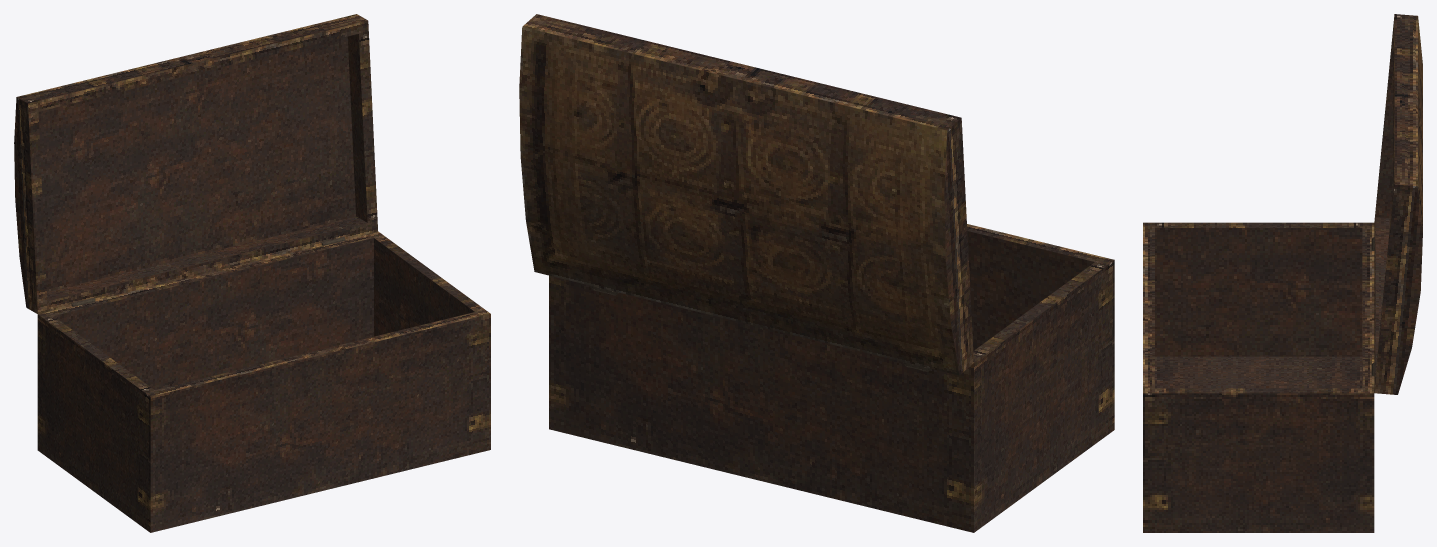
The model's file is wooden_crate_3.glb.
3 views of the same model, side by side, from view 1: azimuth 30°, elevation 25°; view 2: azimuth 150°, elevation 25°; view 3: azimuth 270°, elevation 25° (orthographic). The views are drawn at different scales.
Parts seen in each view (by area): view 1: wooden_crate_3, wooden_crate_3_lid; view 2: wooden_crate_3_lid, wooden_crate_3; view 3: wooden_crate_3, wooden_crate_3_lid.
Boxes of the visible parts, x1,y1,x2,y2 form: wooden_crate_3: [37, 231, 490, 532]; wooden_crate_3_lid: [14, 14, 377, 313]; wooden_crate_3_lid: [519, 14, 973, 375]; wooden_crate_3: [549, 224, 1114, 532]; wooden_crate_3: [1143, 222, 1374, 532]; wooden_crate_3_lid: [1374, 14, 1422, 394].
Size of the model in its own units: 0.68 by 0.6485 by 0.472.
1 material, 1 textured.
